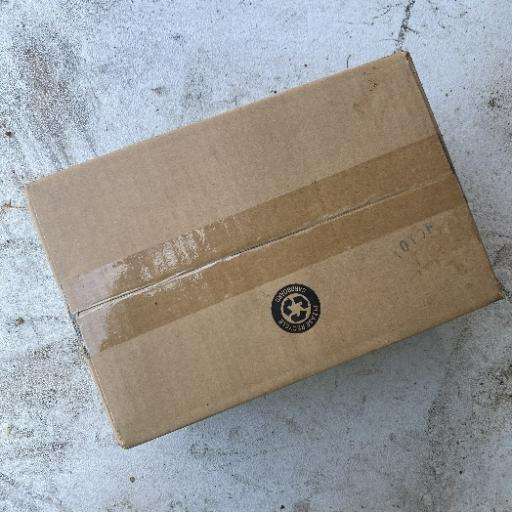Cardboard: (22, 49, 505, 450)
